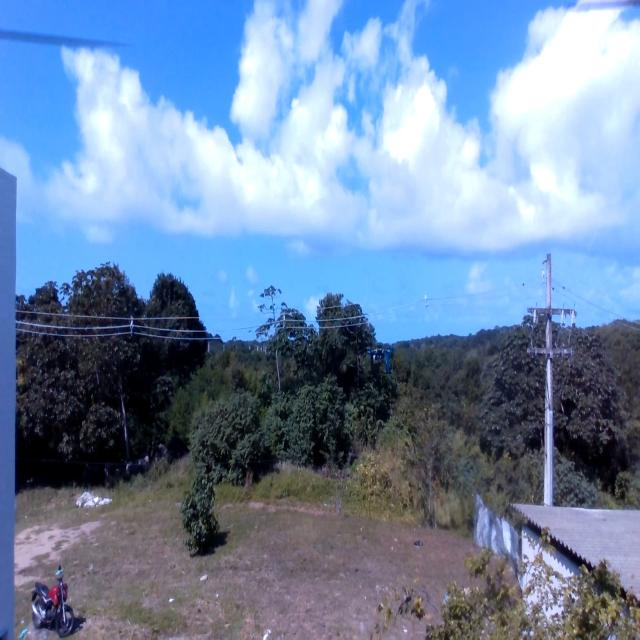-uav-: (362, 342, 394, 372)
